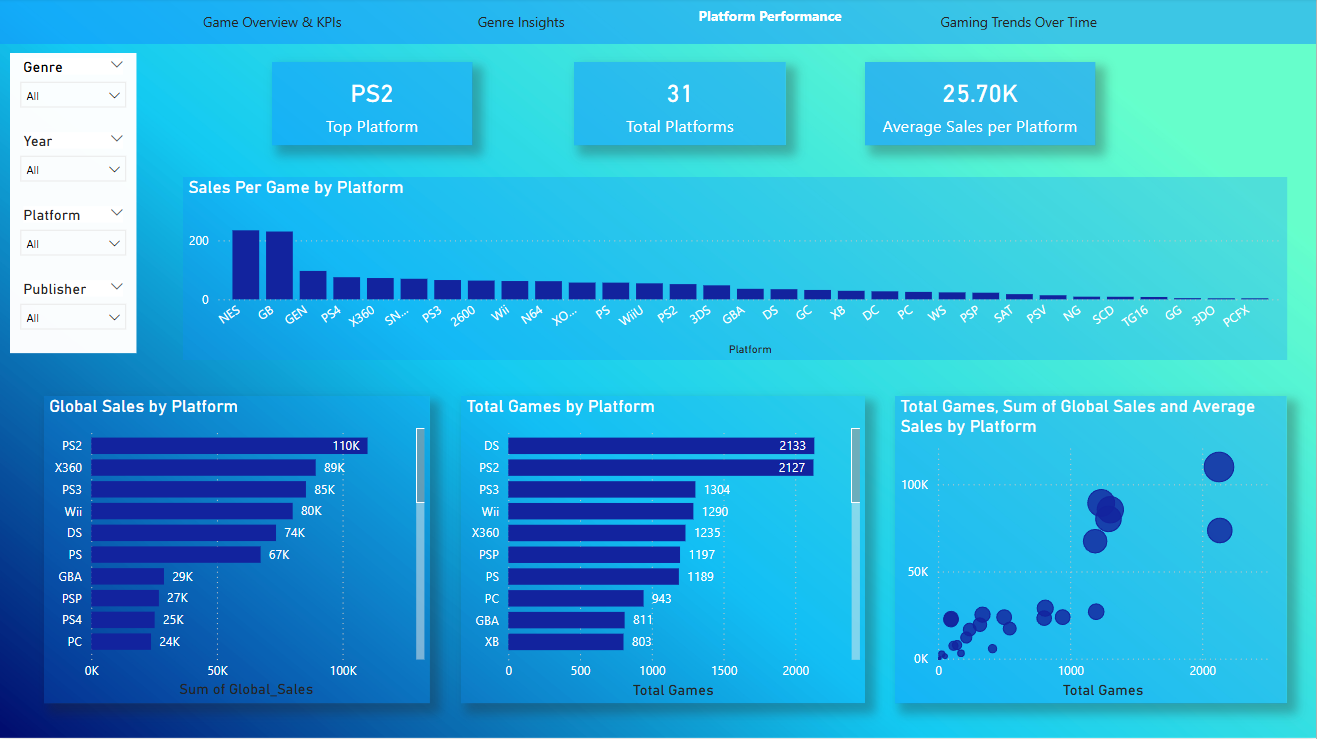

Layout of this report page (visuals, bound fields, positions):
{"tool":"powerbi","page":{"name":"Platform Performance","canvas":[1280,720],"ordinal":2},"visuals":[{"type":"shape","box":[0,0,1280,44.7],"z":0},{"type":"card","fields":{"Values":["Parameter.Total Platforms"]},"box":[558.3,62.2,206.2,80.7],"z":1000},{"type":"card","fields":{"Values":["Y-akse.Top Platform"]},"box":[264.6,62.2,194.5,80.7],"z":2000},{"type":"card","fields":{"Values":["Parameter.Average Sales per Platform"]},"box":[841.3,62.2,223.7,80.7],"z":3000},{"type":"clusteredBarChart","title":"Global Sales by Platform","fields":{"Category":["video games sales.Platform"],"Y":["Sum(video games sales.Global_Sales)"]},"box":[42.8,387.1,375.4,298.6],"z":4000},{"type":"clusteredBarChart","fields":{"Category":["video games sales.Platform"],"Y":["Y-akse.Total Games"]},"box":[448.4,387.1,392.9,298.6],"z":5000},{"type":"scatterChart","title":"Total Games, Sum of Global Sales and Average Sales by Platform","fields":{"X":["Y-akse.Total Games"],"Y":["Sum(video games sales.Global_Sales)"],"Category":["video games sales.Platform"],"Size":["Parameter.Average Sales per Platform"]},"box":[870.5,387.1,381.3,298.6],"z":6000},{"type":"pageNavigator","box":[148.8,6.8,958.1,31.1],"z":7000},{"type":"clusteredColumnChart","title":"Sales Per Game by Platform","fields":{"Y":["Parameter.SalesPerGame"],"Category":["video games sales.Platform"]},"box":[178,174.1,1073.8,178],"z":8000},{"type":"slicer","fields":{"Values":["video games sales.Genre"]},"box":[9.7,53.7,123,72],"z":9000},{"type":"slicer","fields":{"Values":["video games sales.Year"]},"box":[9.7,125.7,123,72],"z":10000},{"type":"slicer","fields":{"Values":["video games sales.Platform"]},"box":[9.7,197.7,123,72],"z":11000},{"type":"slicer","fields":{"Values":["video games sales.Publisher"]},"box":[9.7,269.7,123,76],"z":12000}]}

Visuals, with their boxes in screenshot pixels (x1, y1, x2, y2), scaled from the page's 1280x720 canvas onto the 1317x739 screenshot:
shape: region(0, 0, 1316, 46)
card - Parameter.Total Platforms: region(574, 64, 787, 147)
card - Y-akse.Top Platform: region(272, 64, 472, 147)
card - Parameter.Average Sales per Platform: region(866, 64, 1096, 147)
"Global Sales by Platform" clusteredBarChart: region(44, 397, 430, 704)
clusteredBarChart - video games sales.Platform x Y-akse.Total Games: region(461, 397, 866, 704)
"Total Games, Sum of Global Sales and Average Sales by Platform" scatterChart: region(896, 397, 1288, 704)
pageNavigator: region(153, 7, 1139, 39)
"Sales Per Game by Platform" clusteredColumnChart: region(183, 179, 1288, 361)
slicer - video games sales.Genre: region(10, 55, 137, 129)
slicer - video games sales.Year: region(10, 129, 137, 203)
slicer - video games sales.Platform: region(10, 203, 137, 277)
slicer - video games sales.Publisher: region(10, 277, 137, 355)
